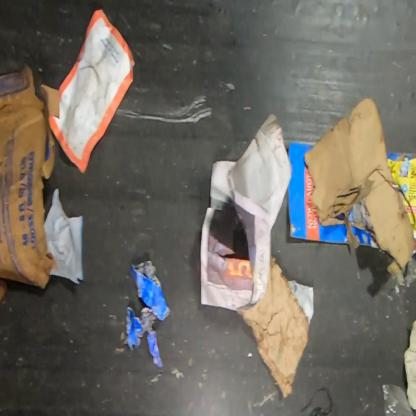cardboard: (304, 96, 414, 278), (0, 63, 60, 305), (237, 254, 310, 400), (287, 141, 379, 250), (403, 319, 415, 412), (386, 151, 416, 161)
soft_plastic: (382, 383, 416, 416)
